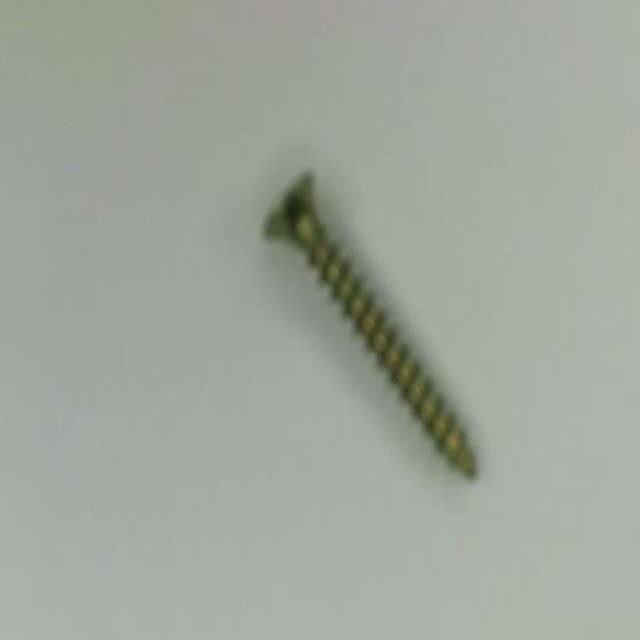Parafuso: (266, 173, 474, 475)
